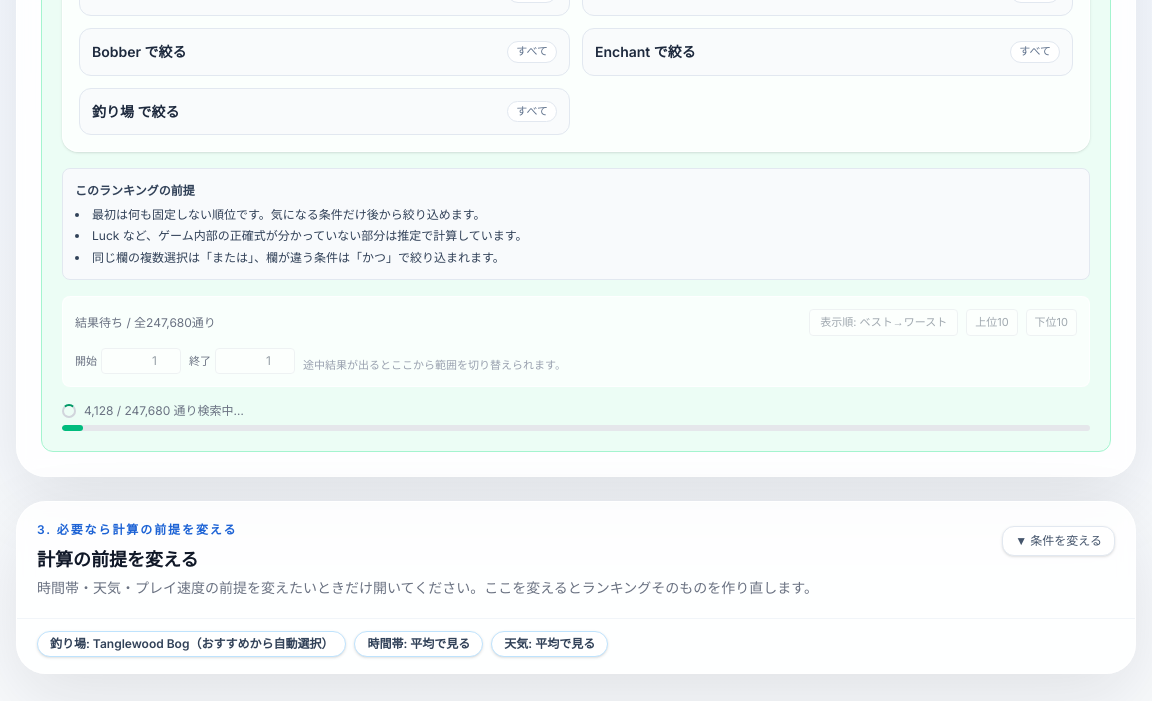
UI quality – overflow and wrapping prevention › expands the setup form when the toggle button is clicked
The width and height of the screenshot is (1152, 701).
(page scrolled)
Step 1. Click the button with test id "setup-toggle" → (1059, 541), box [1002,526,1115,556]
(page scrolled)
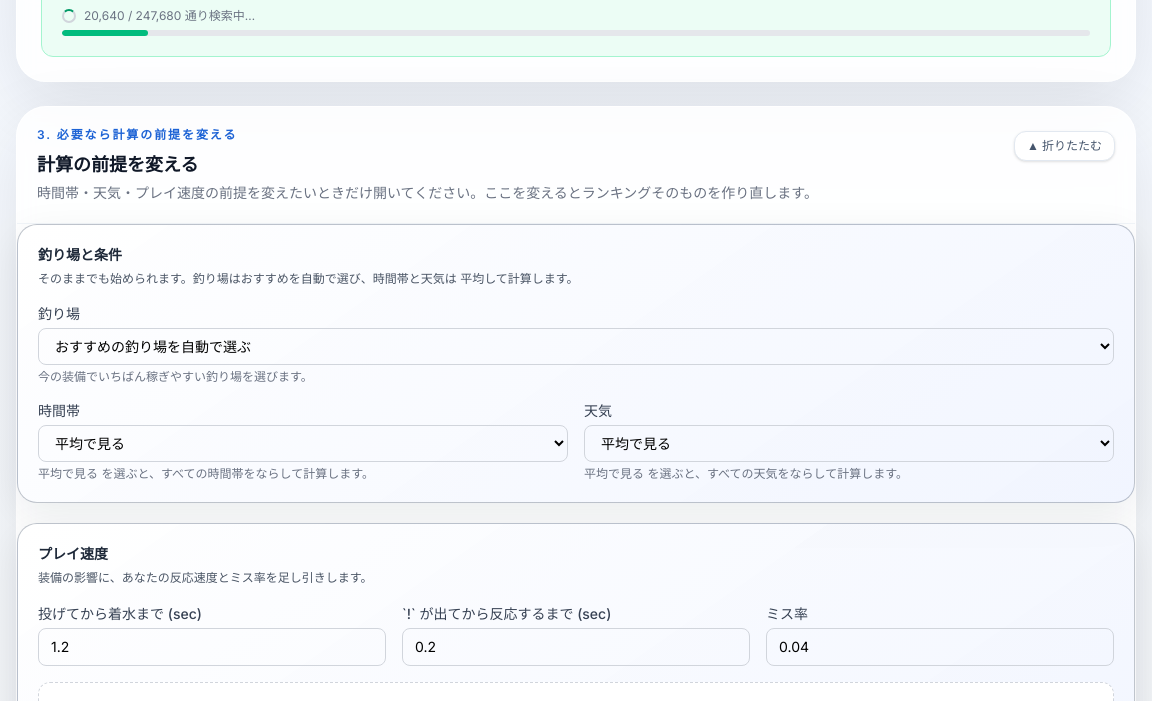
Now the button with test id "setup-toggle" is expanded, box [1014,131,1115,161]
Now the dropdown labelled "釣り場" is shown, box [38,328,1114,365]
Now the element with test id "setup-collapsed-summary" is gone
